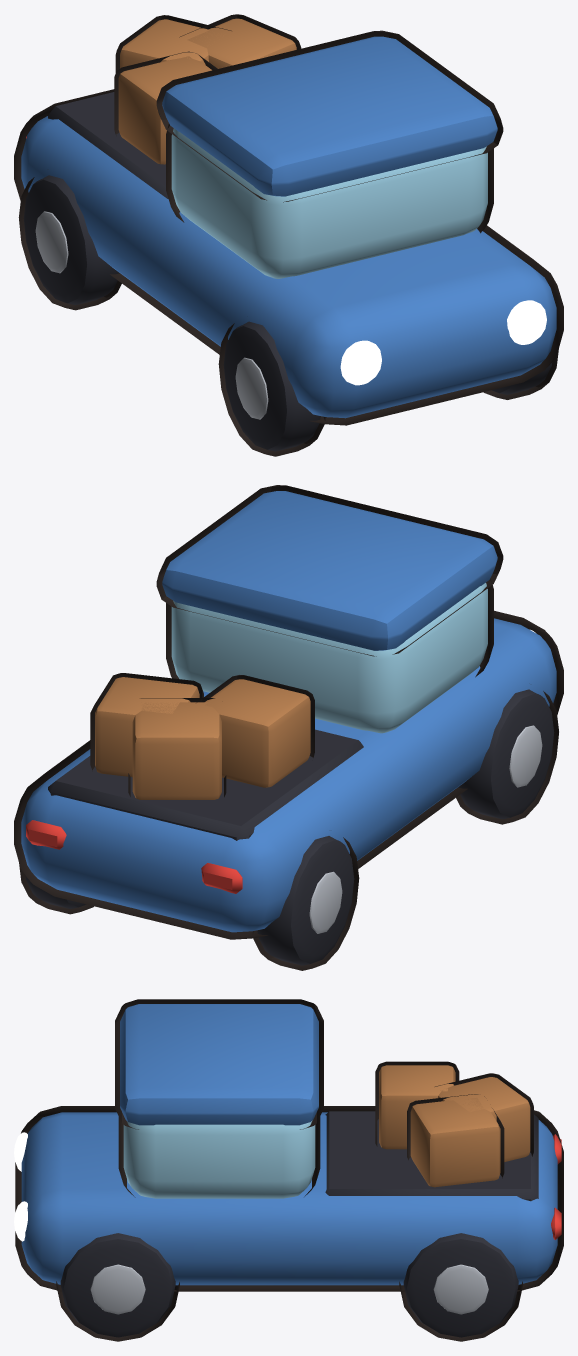
File: Truck_Pickup.fbx
3 renders of one model, top to bottom at view 1: azimuth 30°, elevation 25°; view 2: azimuth 150°, elevation 25°; view 3: azimuth 270°, elevation 25°, orthographic. The views are drawn at different scales.
Parts seen in each view (by area): view 1: VH_Truck_Pickup_RoofBlue, VH_Truck_Pickup_Window, VH_Truck_Pickup_Black, VH_Truck_Pickup_Outline, VH_Truck_Pickup_Wood, VH_Truck_Pickup_MetalLight, VH_Truck_Pickup_LampWarm; view 2: VH_Truck_Pickup_RoofBlue, VH_Truck_Pickup_Window, VH_Truck_Pickup_Black, VH_Truck_Pickup_Wood, VH_Truck_Pickup_Outline, VH_Truck_Pickup_MetalLight, VH_Truck_Pickup_Red; view 3: VH_Truck_Pickup_RoofBlue, VH_Truck_Pickup_Black, VH_Truck_Pickup_Wood, VH_Truck_Pickup_Window, VH_Truck_Pickup_Outline, VH_Truck_Pickup_MetalLight, VH_Truck_Pickup_LampWarm, VH_Truck_Pickup_Red.
Part boxes in pixels (x1,y1,x2,y2): VH_Truck_Pickup_RoofBlue: (21, 36, 556, 418); VH_Truck_Pickup_Window: (171, 128, 487, 278); VH_Truck_Pickup_Black: (23, 92, 552, 451); VH_Truck_Pickup_Outline: (14, 14, 563, 456); VH_Truck_Pickup_Wood: (118, 18, 296, 164); VH_Truck_Pickup_MetalLight: (35, 211, 268, 419); VH_Truck_Pickup_LampWarm: (340, 300, 546, 385); VH_Truck_Pickup_RoofBlue: (21, 491, 556, 932); VH_Truck_Pickup_Window: (171, 583, 487, 733); VH_Truck_Pickup_Black: (25, 689, 554, 965); VH_Truck_Pickup_Wood: (95, 677, 310, 799); VH_Truck_Pickup_Outline: (14, 485, 563, 970); VH_Truck_Pickup_MetalLight: (309, 725, 542, 933); VH_Truck_Pickup_Red: (26, 820, 242, 893); VH_Truck_Pickup_RoofBlue: (21, 1004, 557, 1285); VH_Truck_Pickup_Black: (60, 1111, 538, 1337); VH_Truck_Pickup_Wood: (379, 1065, 530, 1187); VH_Truck_Pickup_Window: (123, 1120, 315, 1198); VH_Truck_Pickup_Outline: (15, 999, 563, 1341); VH_Truck_Pickup_MetalLight: (90, 1264, 488, 1314); VH_Truck_Pickup_LampWarm: (14, 1132, 27, 1241); VH_Truck_Pickup_Red: (551, 1134, 561, 1239).
Size of the model in its own units: 2.19 by 2.13 by 4.31.
